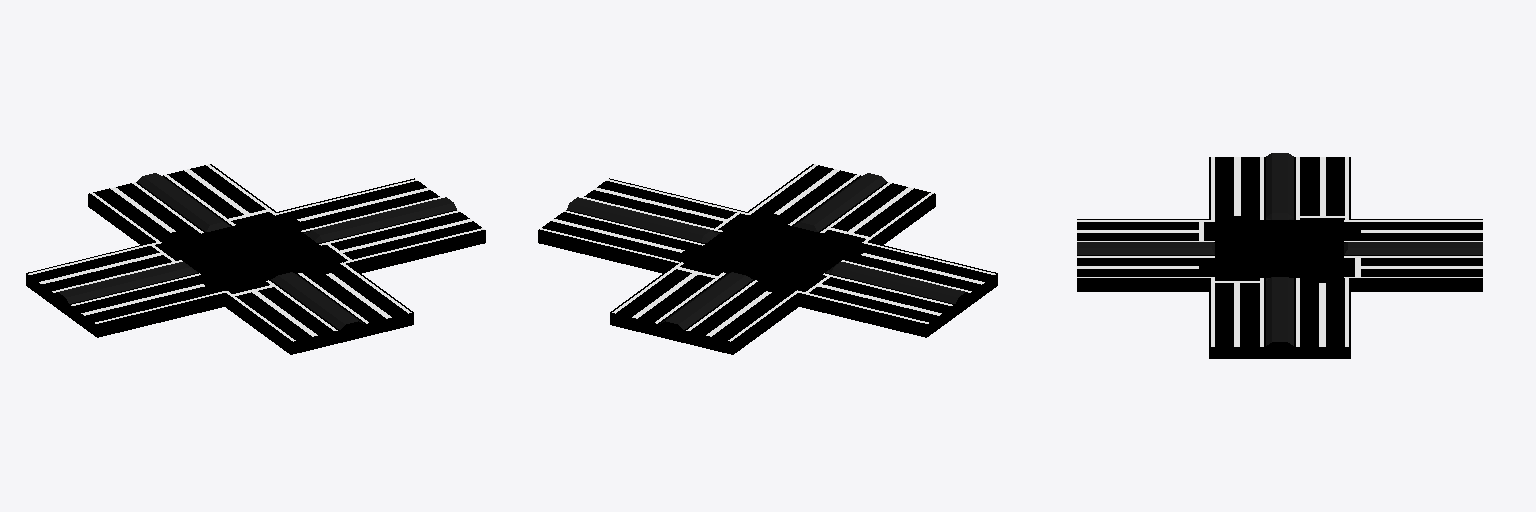
The model's file is kokudou_X.obj.
3 renders of one model, left to right at view 1: azimuth 30°, elevation 25°; view 2: azimuth 150°, elevation 25°; view 3: azimuth 270°, elevation 25°, orthographic.
Visible parts, largest first — view 1: Cube, Cube.002, Cube.001; view 2: Cube, Cube.002, Cube.001; view 3: Cube, Cube.001, Cube.002.
Boxes of the visible parts, box(x1,y1,x2,y2) form: Cube: box(88, 164, 413, 354); Cube.002: box(26, 242, 226, 337); Cube.001: box(275, 178, 485, 273); Cube: box(610, 164, 935, 354); Cube.002: box(797, 242, 997, 337); Cube.001: box(538, 178, 748, 273); Cube: box(1077, 219, 1482, 291); Cube.001: box(1209, 277, 1350, 358); Cube.002: box(1209, 153, 1350, 219).
Size of the model in its own units: 31.57 by 1.34 by 28.55.